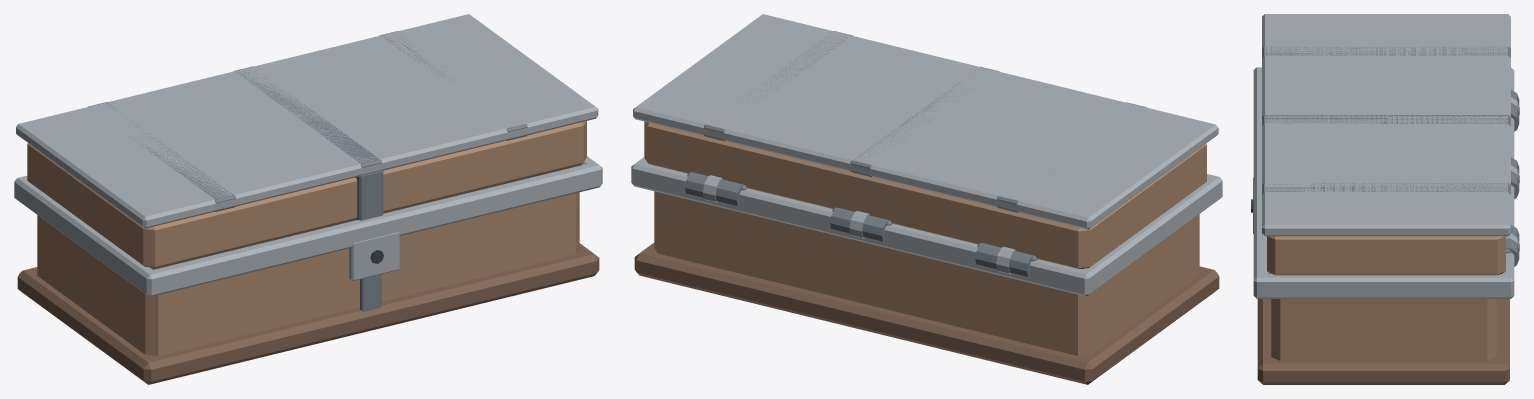
Rendered from LootChestCommon.glb.
The picture shows the model from 3 angles, left to right: view 1: azimuth 30°, elevation 25°; view 2: azimuth 150°, elevation 25°; view 3: azimuth 270°, elevation 25°; orthographic projection. The views are drawn at different scales.
Parts seen in each view (by area): view 1: LidMesh, ChestBase; view 2: LidMesh, ChestBase; view 3: LidMesh, ChestBase.
Boxes of the visible parts, x1,y1,x2,y2 form: LidMesh: (16, 14, 598, 269); ChestBase: (14, 156, 602, 384); LidMesh: (633, 14, 1218, 274); ChestBase: (631, 157, 1222, 384); LidMesh: (1262, 14, 1519, 275); ChestBase: (1251, 67, 1519, 384).
Size of the model in its own units: 3 by 1.06 by 1.6.
